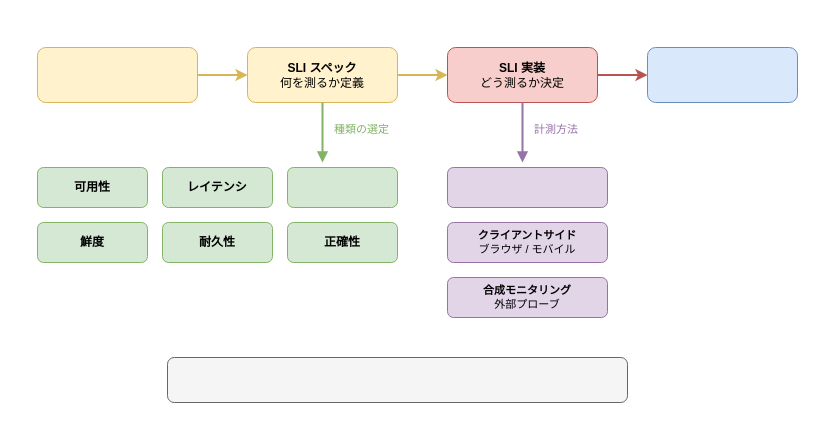
This 834x434 diagram has some shape labels left out. Here are the shapes that lost their labels. From the top down, the centre of each, then its label:
At (x=117, y=74): "CUJ 特定 ユーザーの重要行動".
At (x=722, y=74): "SLO 設定 目標値を設定".
At (x=342, y=187): "スループット".
At (x=527, y=187): "サーバーサイド LB / サーバーログ".
At (x=397, y=379): "SLI = Good Events ÷ Total Events × 100%".
